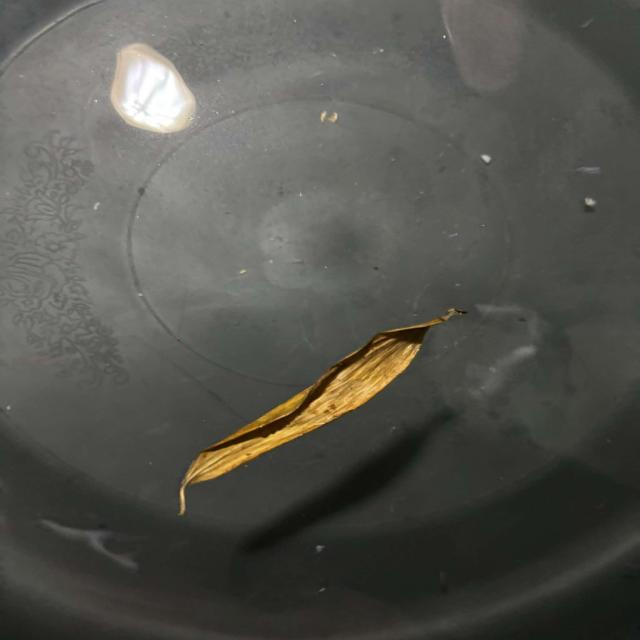Leaf: (135, 276, 510, 536)
